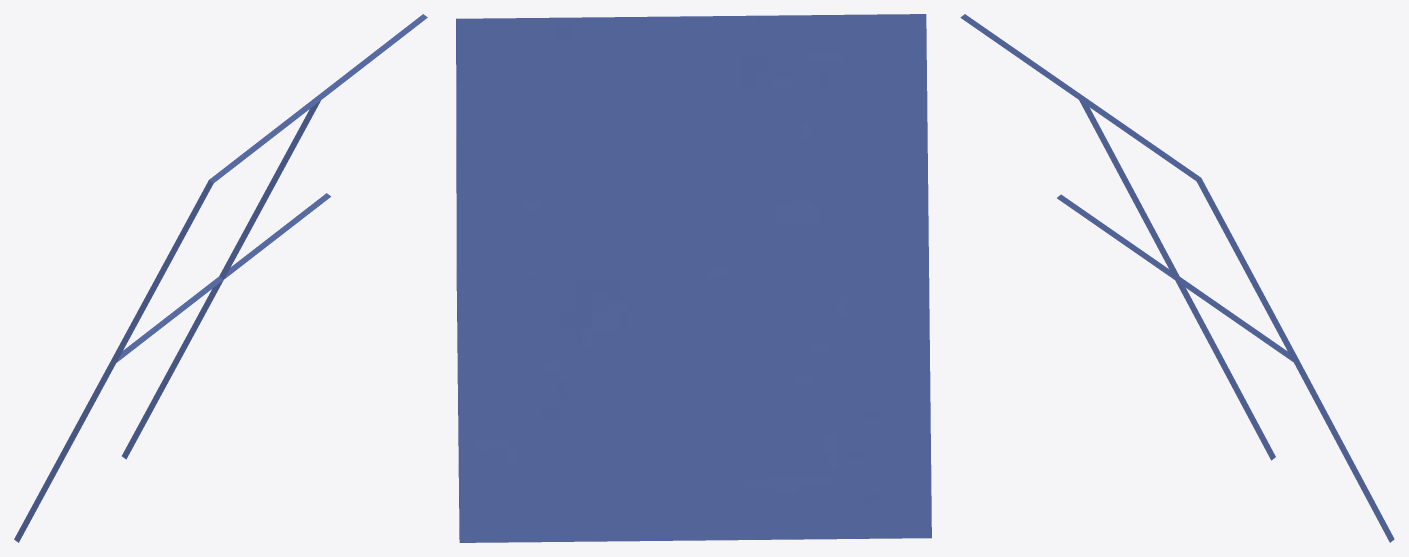
The picture shows the model from 3 angles, left to right: view 1: azimuth 30°, elevation 25°; view 2: azimuth 150°, elevation 25°; view 3: azimuth 270°, elevation 25°; orthographic projection. The views are drawn at different scales.
Size of the model in its own units: 19677 by 17661 by 16840.
1 material, 1 textured.
